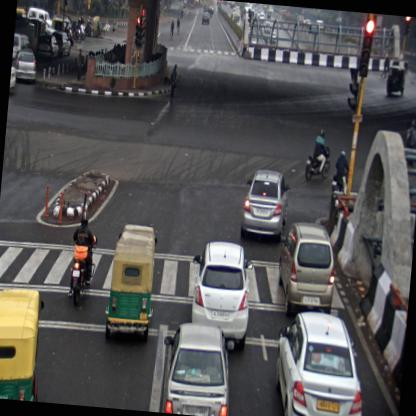car: (270, 309, 372, 415), (186, 238, 255, 358), (158, 321, 239, 415), (274, 221, 340, 322), (240, 167, 292, 244), (12, 45, 38, 86), (12, 32, 30, 64), (202, 13, 210, 25)
motorcycle: (66, 210, 100, 309), (303, 127, 334, 185), (330, 147, 350, 196)
